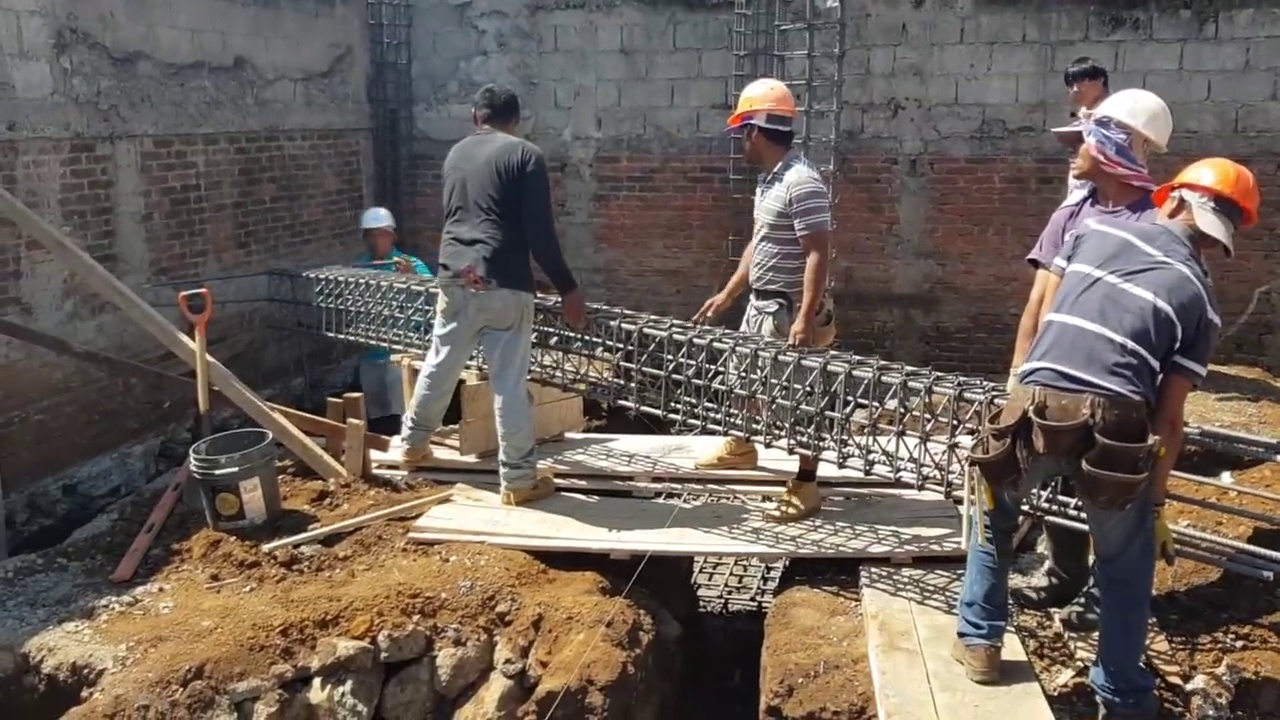helmet: (1157, 158, 1264, 229), (1074, 82, 1180, 152), (725, 79, 801, 135), (356, 204, 395, 236)
helmet-off: (1064, 53, 1111, 108), (467, 87, 518, 136)
helmet-on: (1075, 84, 1176, 205), (1150, 158, 1266, 254), (723, 77, 802, 174), (356, 205, 395, 257)
person: (996, 158, 1266, 720), (388, 84, 586, 511), (696, 77, 836, 523), (1009, 84, 1180, 394), (353, 205, 437, 441)
